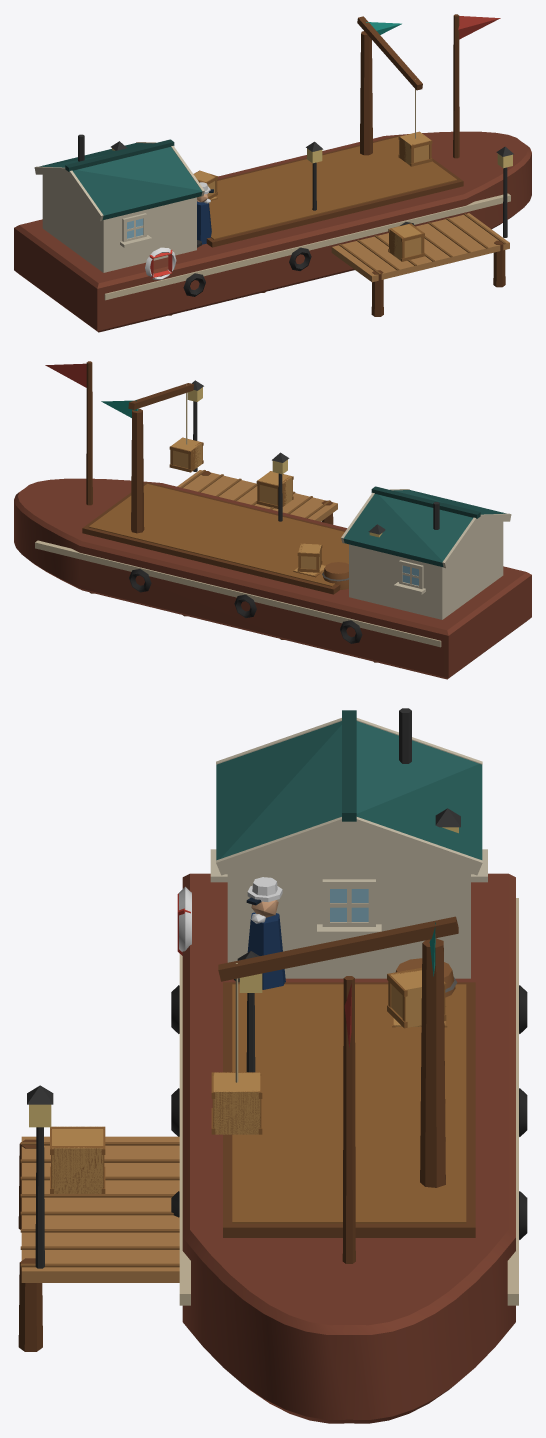
File: barge.glb
3 views of the same model, one above another, from view 1: azimuth 30°, elevation 25°; view 2: azimuth 150°, elevation 25°; view 3: azimuth 270°, elevation 25° (orthographic). The views are drawn at different scales.
Visible parts, largest first — view 1: prop-barge, prop-jetty-2; view 2: prop-barge, prop-jetty-2, prop-jetty; view 3: prop-barge, prop-jetty-2, prop-jetty.
Part boxes in pixels (x1,y1,x2,y2): prop-barge: (14, 14, 531, 332); prop-jetty-2: (111, 16, 513, 316); prop-barge: (14, 361, 531, 679); prop-jetty-2: (91, 380, 385, 593); prop-jetty: (90, 532, 381, 662); prop-barge: (171, 708, 527, 1423); prop-jetty-2: (18, 808, 460, 1351); prop-jetty: (388, 827, 458, 1028).
Bounding box in the file's own units: 11.57 × 4.77 × 5.43.
